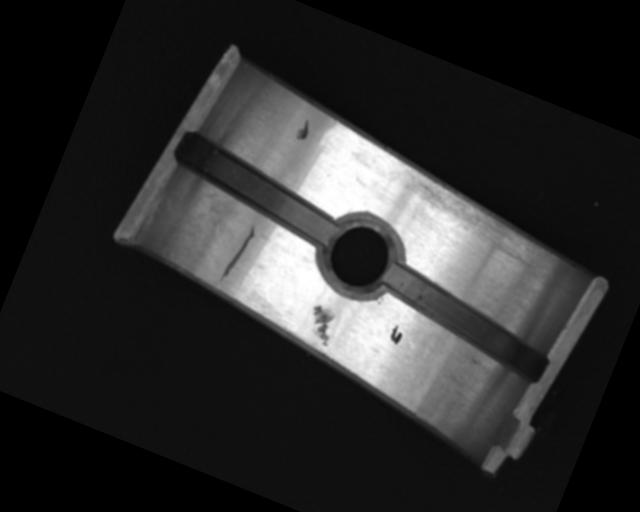blot: (385, 321, 407, 347)
bruise: (302, 303, 341, 347), (294, 117, 313, 142)
gap: (368, 259, 561, 383), (164, 130, 349, 251)
hole: (309, 203, 411, 305)
nick: (217, 220, 258, 289)
scratch: (387, 163, 549, 267)
